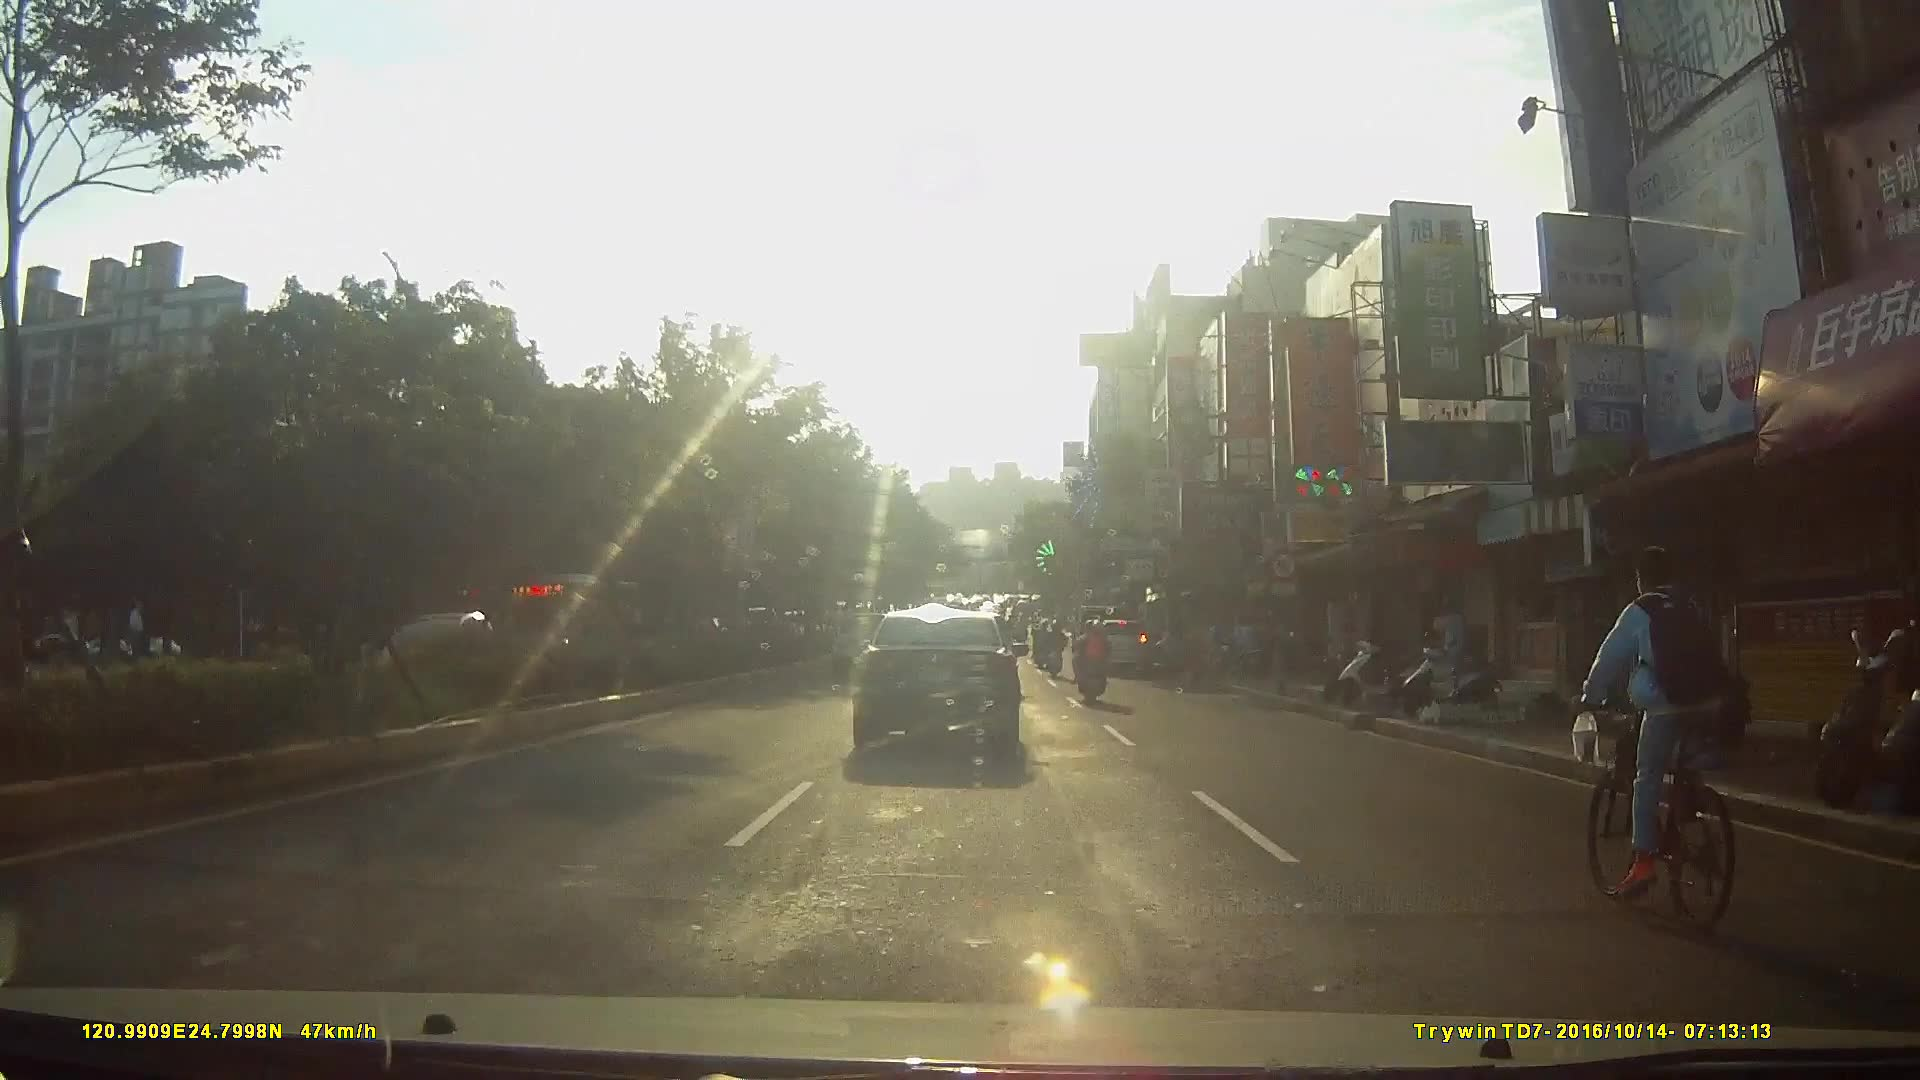rider: (1577, 546, 1746, 930), (1069, 616, 1112, 711), (1040, 619, 1068, 679)
vehicle: (847, 595, 1039, 767), (1083, 614, 1155, 676)
